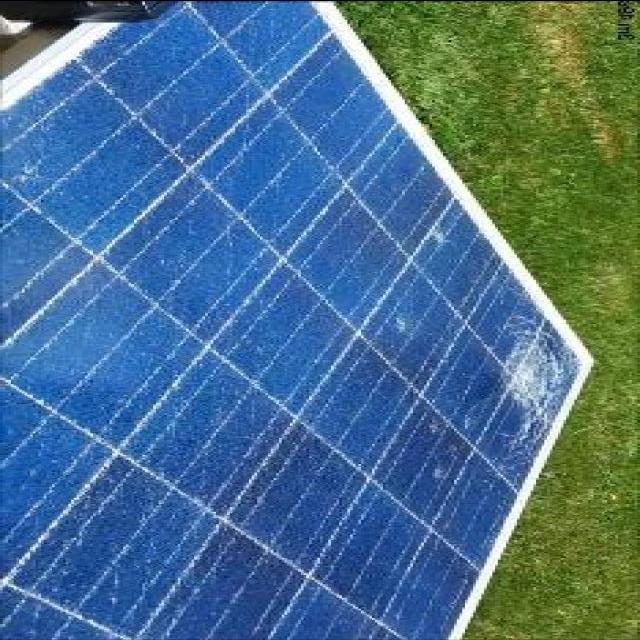cracked: (0, 38, 577, 584)
